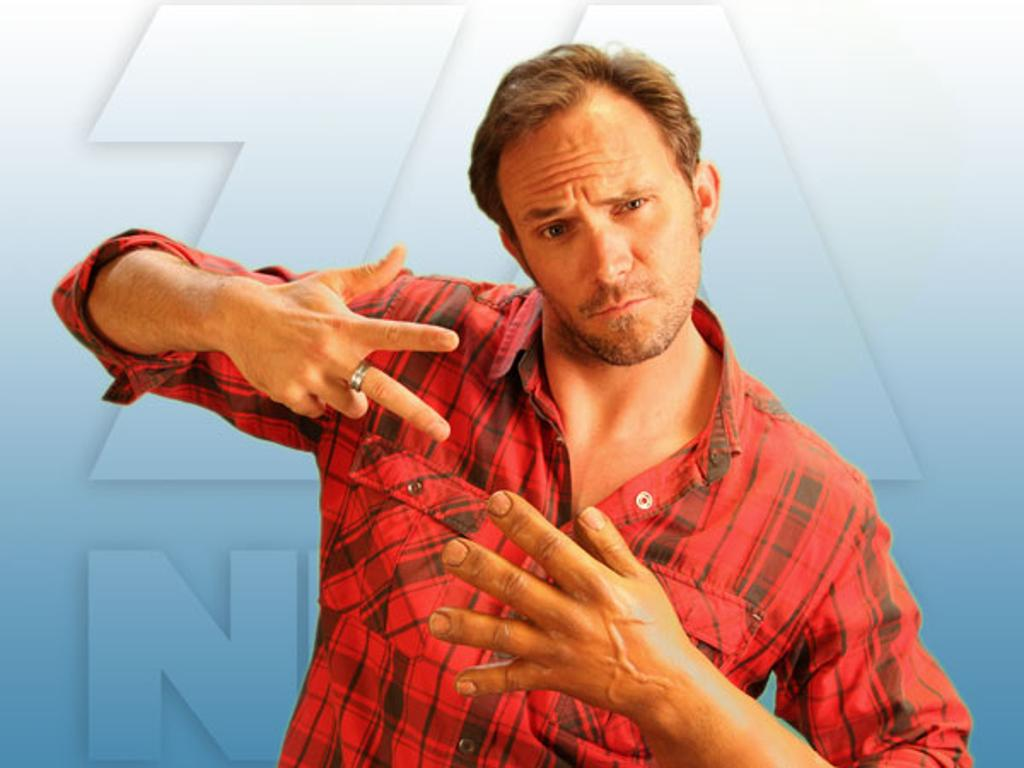face: (502, 104, 696, 358)
